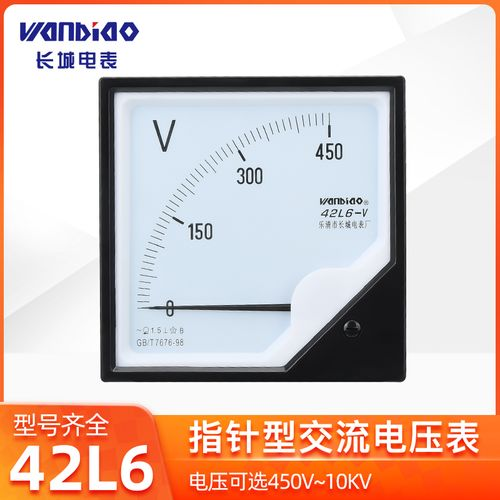pointer: (111, 88, 393, 370)
